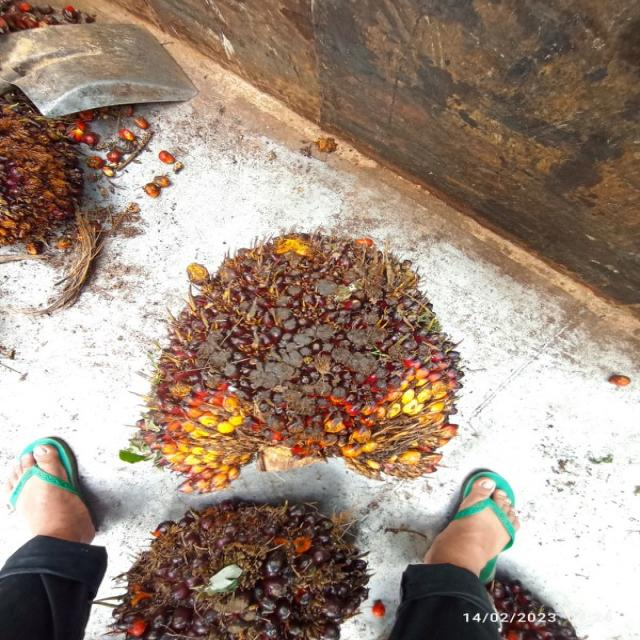fraksi 1: (132, 233, 465, 478)
